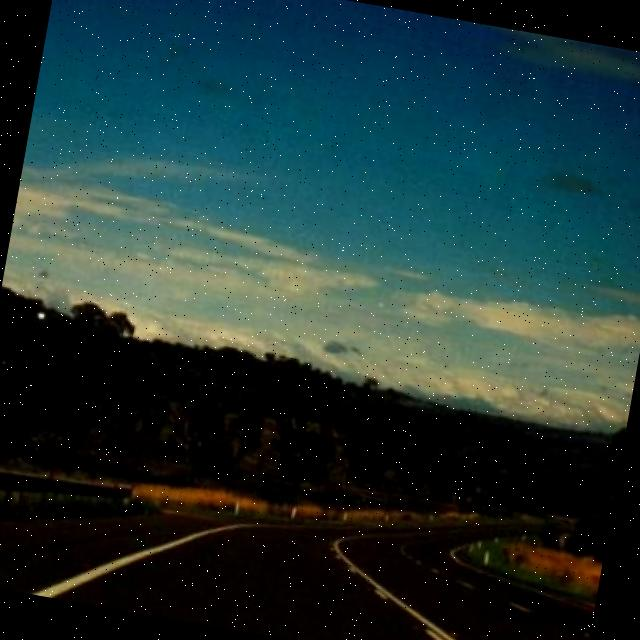Sc: (1, 35, 640, 416)
